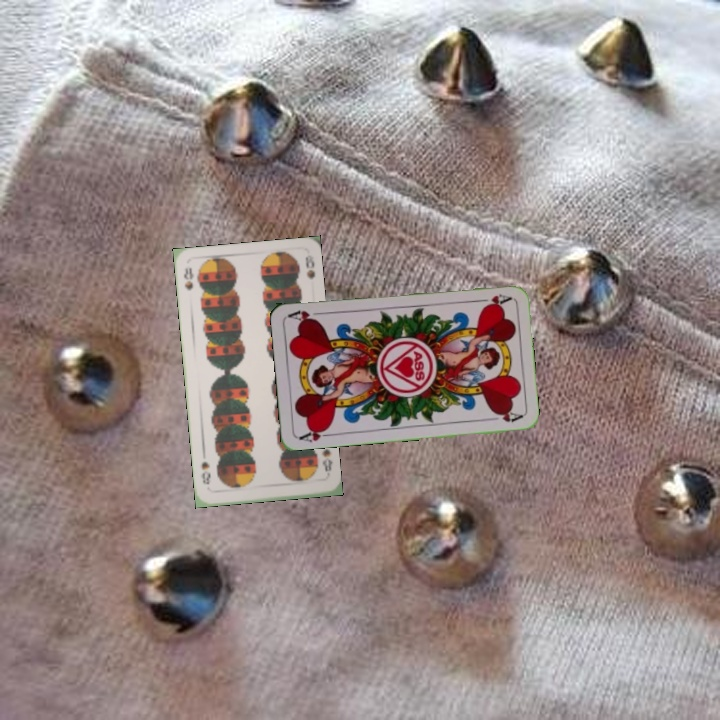HA: (295, 423, 336, 445), (473, 290, 513, 309)
S8: (318, 444, 335, 474), (180, 263, 197, 293)
